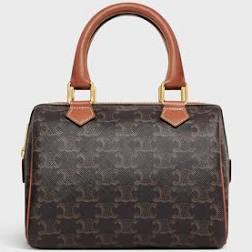Gucci: (19, 9, 232, 250), (60, 141, 207, 241)
